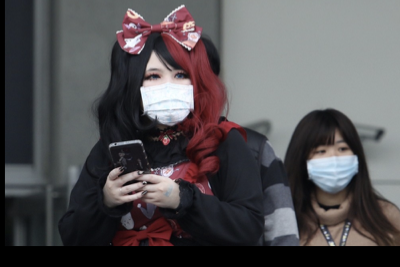with_mask: (138, 65, 196, 127), (303, 138, 358, 196)
